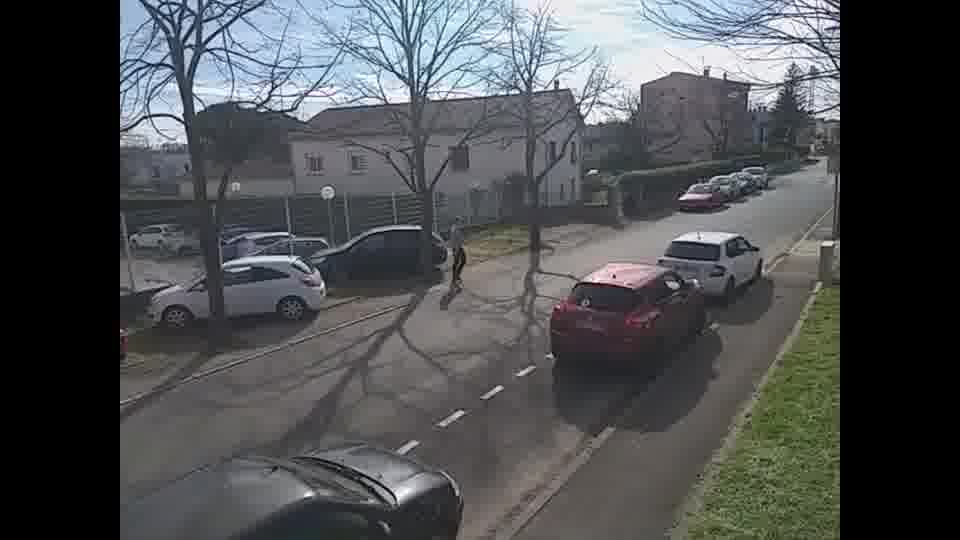jugador: (444, 211, 474, 288)
